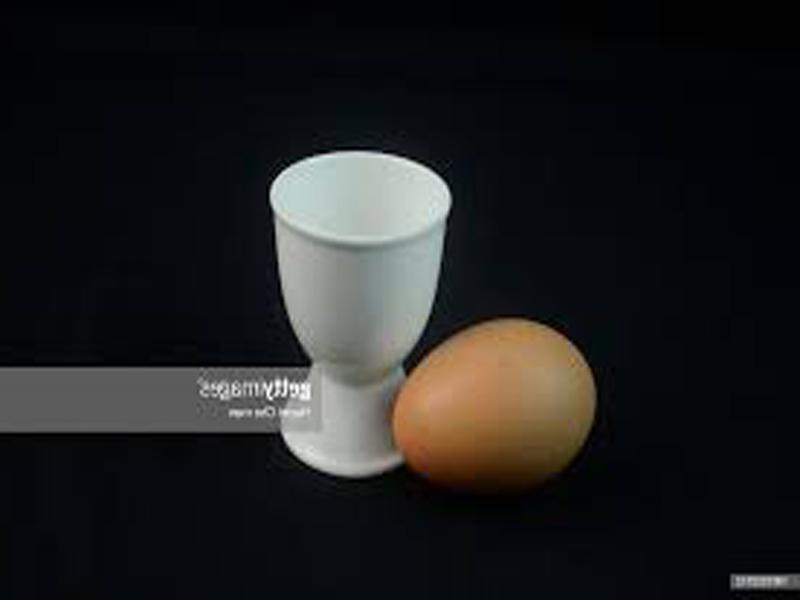Eggs: (390, 318, 593, 482)
